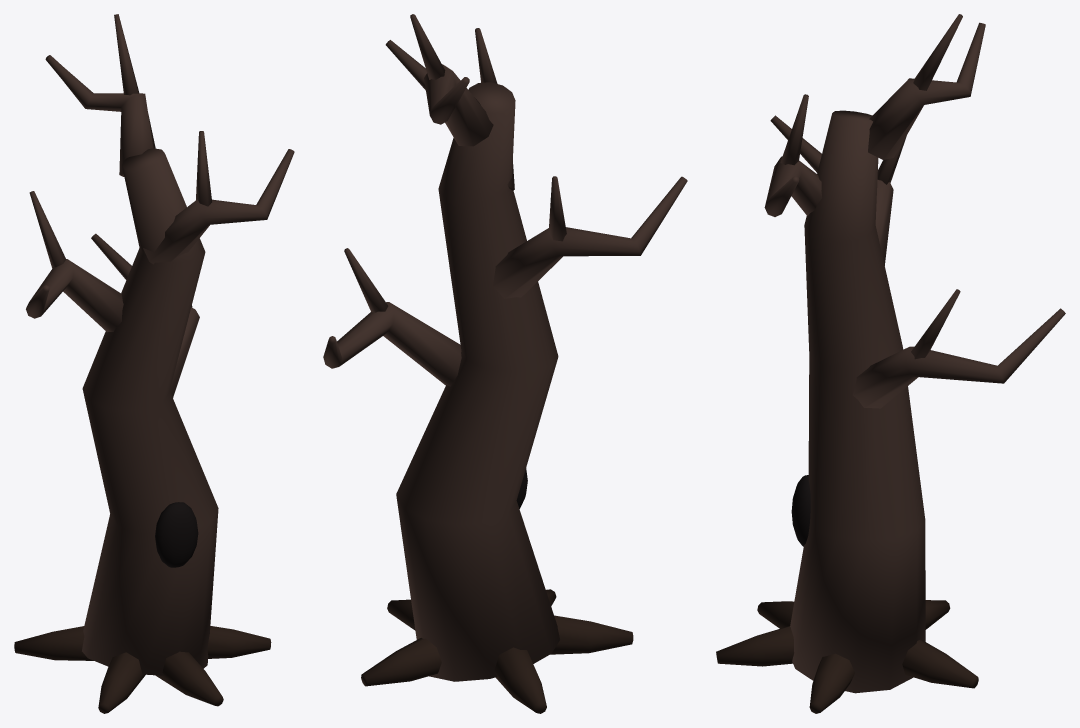
File: P_SpookyTree.fbx
The picture shows the model from 3 angles, left to right: view 1: azimuth 30°, elevation 25°; view 2: azimuth 150°, elevation 25°; view 3: azimuth 270°, elevation 25°; orthographic projection. The views are drawn at different scales.
Visible parts, largest first — view 1: P_SpookyTree__Bark, P_SpookyTree__BarkDark, P_SpookyTree__Hollow; view 2: P_SpookyTree__Bark, P_SpookyTree__BarkDark; view 3: P_SpookyTree__Bark, P_SpookyTree__BarkDark, P_SpookyTree__Hollow.
Part boxes in pixels (x1,y1,x2,y2): P_SpookyTree__Bark: (26,14,294,675); P_SpookyTree__BarkDark: (14,626,271,713); P_SpookyTree__Hollow: (155,502,198,567); P_SpookyTree__Bark: (323,14,687,681); P_SpookyTree__BarkDark: (361,589,633,713); P_SpookyTree__Bark: (764,14,1065,693); P_SpookyTree__BarkDark: (716,600,978,713); P_SpookyTree__Hollow: (791,475,810,546).
Size of the model in its own units: 6.04 by 13.58 by 6.51.
